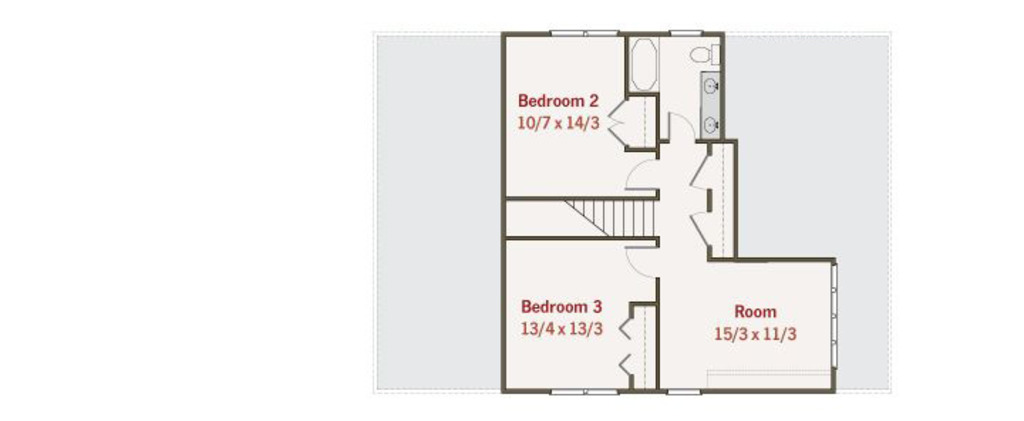door: (648, 108, 701, 151), (598, 96, 635, 147), (621, 247, 665, 284), (621, 160, 662, 194), (684, 148, 719, 187), (683, 208, 713, 242)
large_sink: (685, 44, 720, 64)
small_sink: (699, 72, 720, 140)
stairs: (563, 192, 663, 244)
tub: (629, 31, 659, 93)
window: (825, 259, 839, 370), (541, 386, 625, 400), (550, 24, 612, 38), (658, 384, 703, 398), (666, 29, 702, 41)
